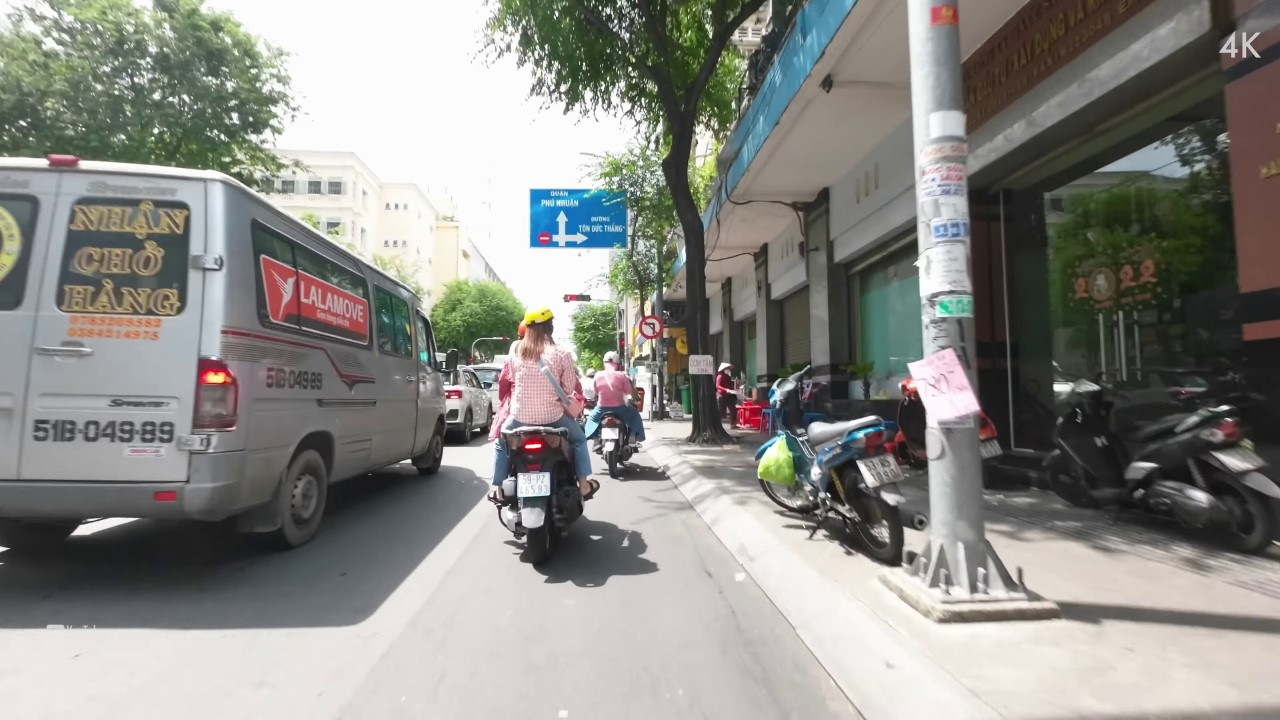cam_re_trai: (639, 315, 663, 339)
